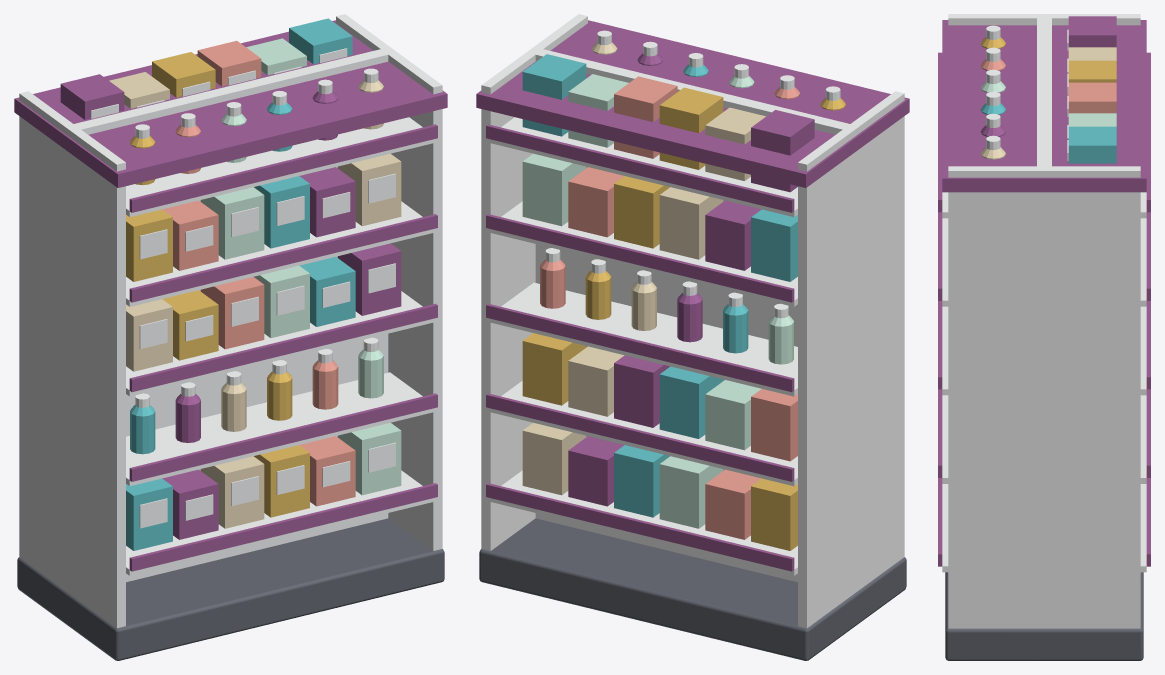
File: pharmacy-and-high-street-chemist-gondola-shelving-run-48813f4b__37505.glb
3 renders of one model, left to right at view 1: azimuth 30°, elevation 25°; view 2: azimuth 150°, elevation 25°; view 3: azimuth 270°, elevation 25°, orthographic.
Parts seen in each view (by area): view 1: gondola-shelving-run; view 2: gondola-shelving-run; view 3: gondola-shelving-run.
Part boxes in pixels (<box>): gondola-shelving-run: <box>14,14,447,660</box>; gondola-shelving-run: <box>476,14,909,660</box>; gondola-shelving-run: <box>938,14,1150,660</box>.
Size of the model in its own units: 1.25 by 1.84 by 0.708.
